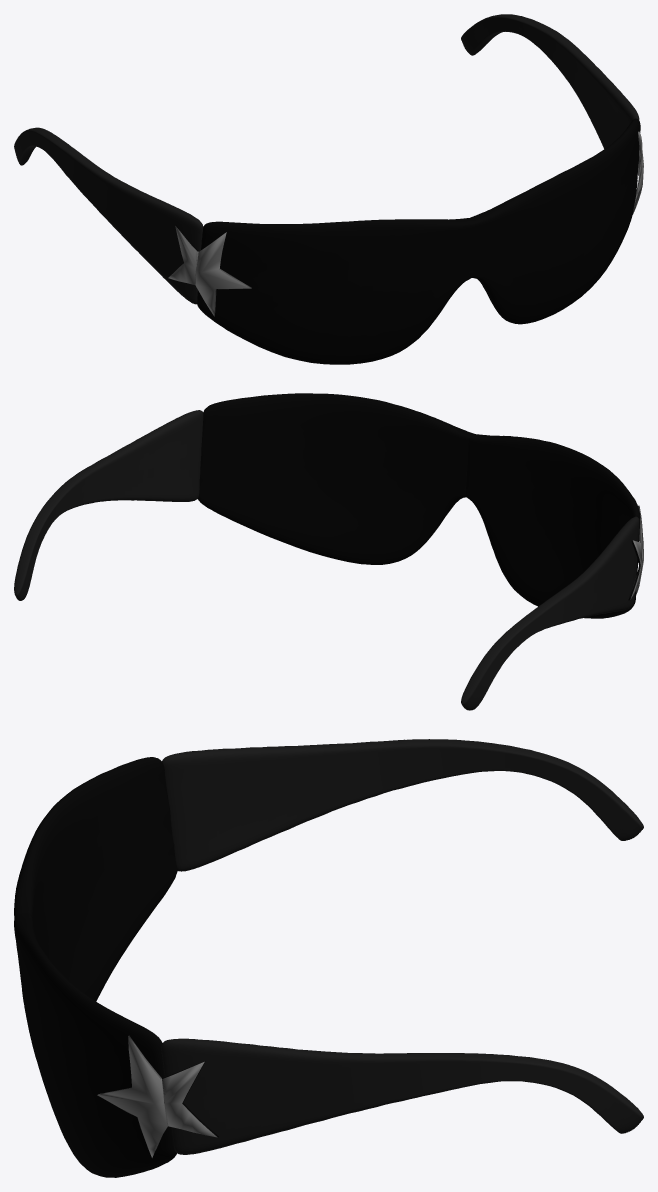
Rendered from glasses-66.glb.
3 renders of one model, top to bottom at view 1: azimuth 30°, elevation 25°; view 2: azimuth 150°, elevation 25°; view 3: azimuth 270°, elevation 25°, orthographic. The views are drawn at different scales.
Visible parts, largest first — view 1: glasses_0; view 2: glasses_0; view 3: glasses_0.
Boxes of the visible parts, bbox=[...] form: glasses_0: bbox=[14, 14, 643, 364]; glasses_0: bbox=[14, 393, 643, 710]; glasses_0: bbox=[14, 739, 643, 1177].
Size of the model in its own units: 2.95 by 0.8882 by 2.45.
Materials: 4 (4 with a texture image).
